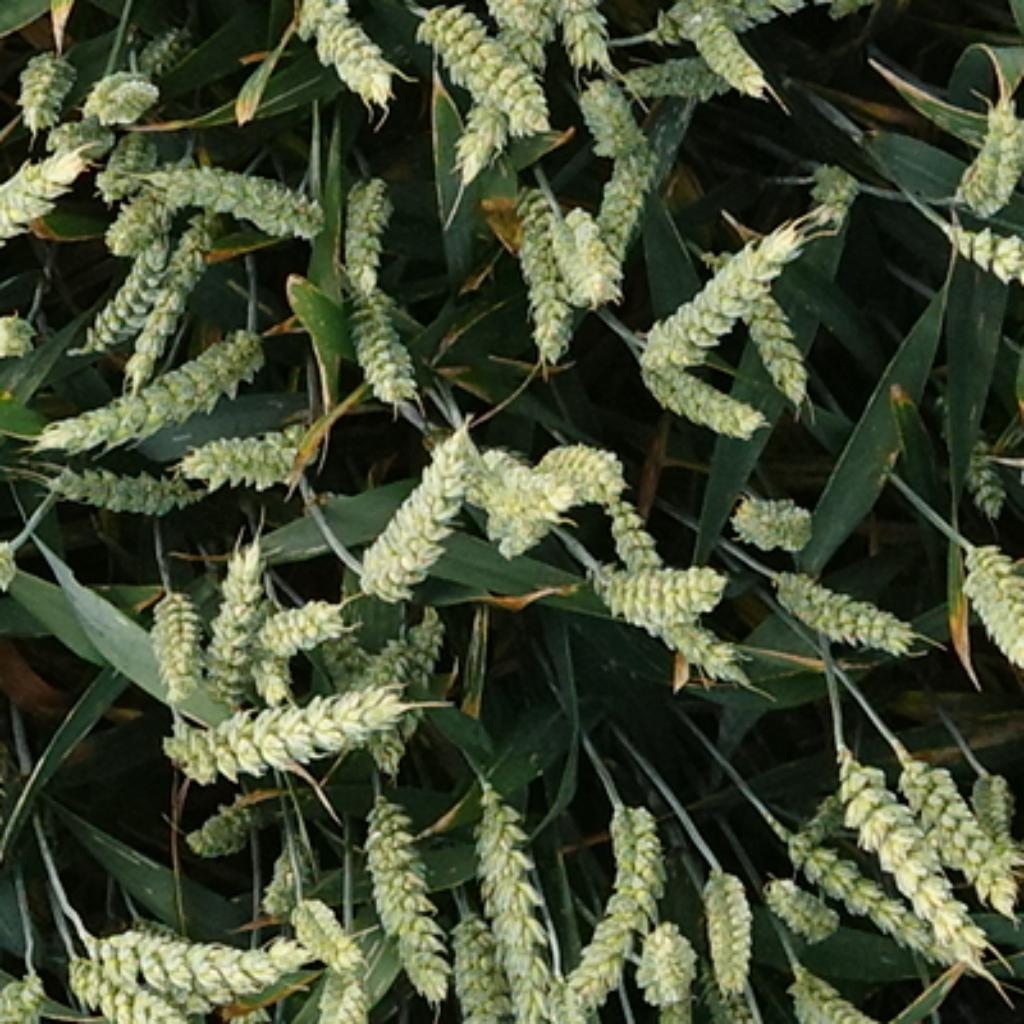0-0: (831, 743, 996, 972), (33, 327, 276, 450), (156, 686, 422, 785), (640, 220, 806, 378), (556, 806, 673, 1019), (778, 829, 949, 967), (353, 412, 473, 599), (473, 775, 560, 1024), (591, 568, 757, 696), (87, 924, 304, 1013), (366, 793, 458, 1000), (417, 0, 550, 140), (122, 209, 220, 399), (145, 151, 330, 250), (453, 0, 545, 199), (488, 442, 629, 560), (893, 737, 996, 889), (422, 422, 568, 529), (320, 629, 417, 783), (775, 565, 921, 663), (634, 343, 772, 444), (506, 184, 581, 368), (64, 235, 179, 353), (289, 0, 409, 110), (729, 248, 814, 396), (209, 524, 273, 711), (332, 284, 419, 412), (665, 0, 773, 102), (171, 417, 325, 488), (0, 138, 81, 268), (601, 558, 734, 637), (949, 87, 1024, 217), (368, 606, 445, 732), (40, 460, 204, 517), (99, 156, 194, 253), (58, 954, 189, 1024), (640, 0, 818, 50), (954, 540, 1024, 665), (704, 860, 760, 1006), (542, 199, 614, 309), (332, 163, 396, 284), (174, 785, 276, 860), (143, 586, 204, 706), (586, 145, 647, 263), (974, 771, 1022, 920), (445, 903, 499, 1024), (936, 212, 1024, 286), (788, 962, 893, 1024), (253, 593, 350, 660), (614, 53, 734, 107), (947, 419, 1011, 519), (732, 488, 826, 555), (632, 919, 706, 1003), (256, 826, 320, 921), (537, 0, 616, 76), (573, 76, 645, 158), (609, 501, 683, 578), (12, 48, 79, 133), (762, 865, 842, 934), (286, 888, 355, 967), (125, 12, 202, 74), (307, 952, 373, 1024), (76, 69, 156, 128), (94, 130, 158, 202), (785, 791, 844, 865), (463, 0, 552, 46), (801, 151, 862, 215), (481, 442, 552, 496), (48, 117, 122, 168), (128, 911, 202, 962), (701, 954, 752, 1024), (248, 650, 302, 714), (363, 632, 414, 691), (499, 677, 550, 726), (0, 972, 46, 1024), (652, 993, 704, 1024)
